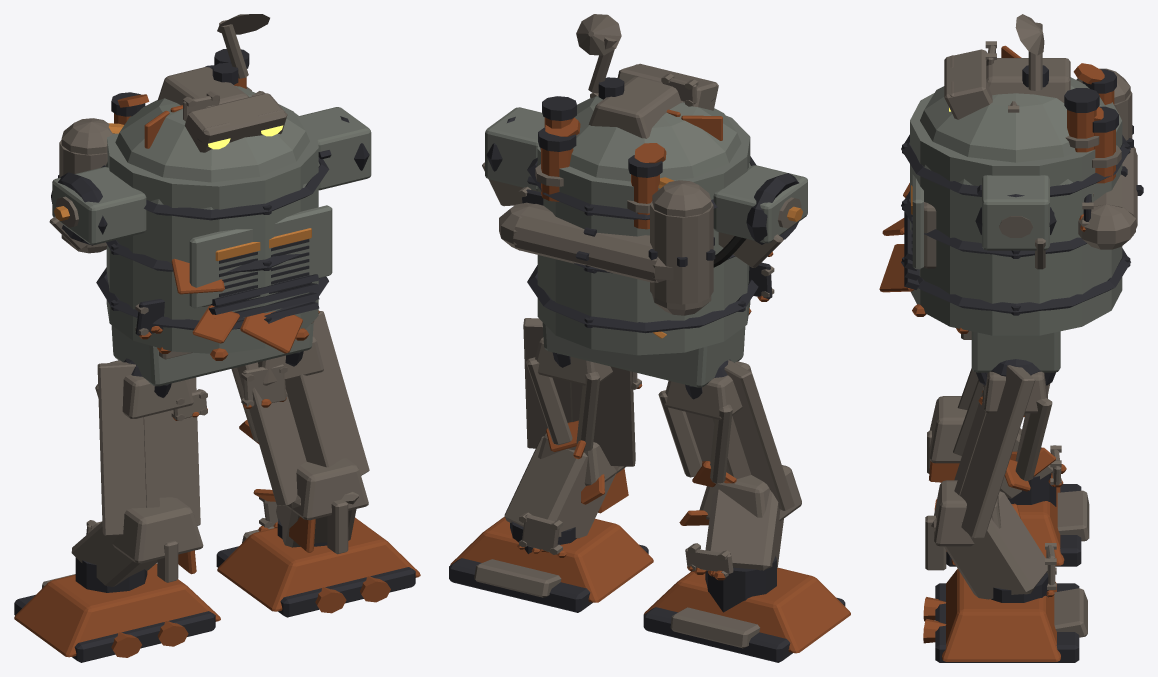
File: ch_colossus.glb
3 renders of one model, left to right at view 1: azimuth 30°, elevation 25°; view 2: azimuth 150°, elevation 25°; view 3: azimuth 270°, elevation 25°, orthographic.
Parts seen in each view (by area): view 1: ch_colossus, limb_leg_l, limb_leg_r; view 2: ch_colossus, limb_leg_l, limb_leg_r; view 3: ch_colossus, limb_leg_r, limb_leg_l.
Part boxes in pixels (x1,y1,x2,y2): ch_colossus: [49, 14, 371, 386]; limb_leg_l: [14, 358, 220, 662]; limb_leg_r: [216, 310, 420, 617]; ch_colossus: [482, 14, 807, 387]; limb_leg_l: [643, 359, 850, 662]; limb_leg_r: [449, 318, 653, 612]; ch_colossus: [879, 14, 1143, 376]; limb_leg_r: [923, 359, 1087, 662]; limb_leg_l: [927, 368, 1089, 566].
Size of the model in its own units: 0.4789 by 0.7528 by 0.3092.
